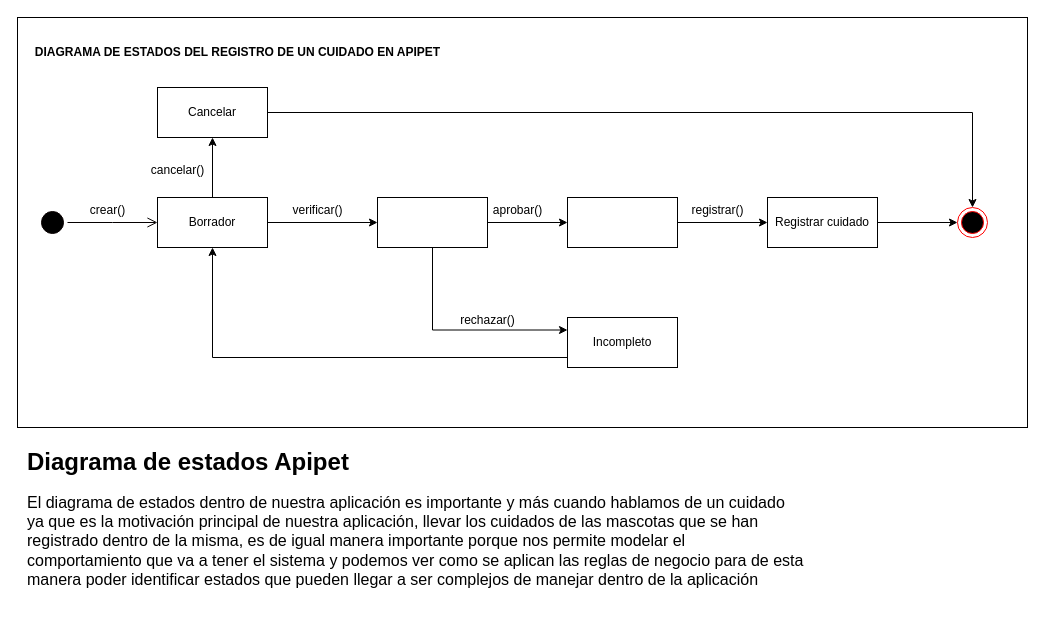
Some shapes in this 1045 by 625 pixel diagram are drawn without their labels. The shapes that lost their labels are listed below. From the top down, each one's centre as x and y in pixels, then its label:
(432,222): Verificar informacion
(622,222): Aprobado
